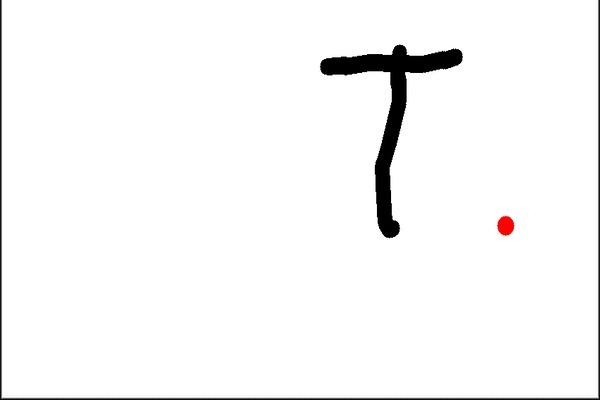T: (312, 31, 466, 239)
